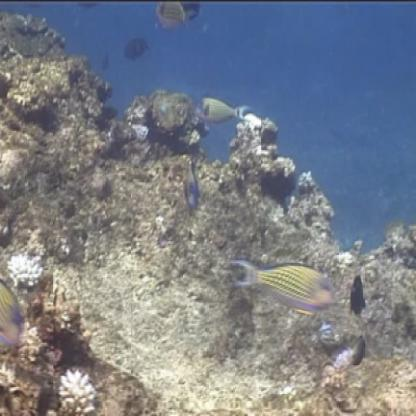Acanthuridae -Surgeonfishes-: (230, 253, 342, 319), (191, 91, 253, 127), (1, 274, 28, 354), (181, 157, 203, 217), (156, 1, 192, 34)
